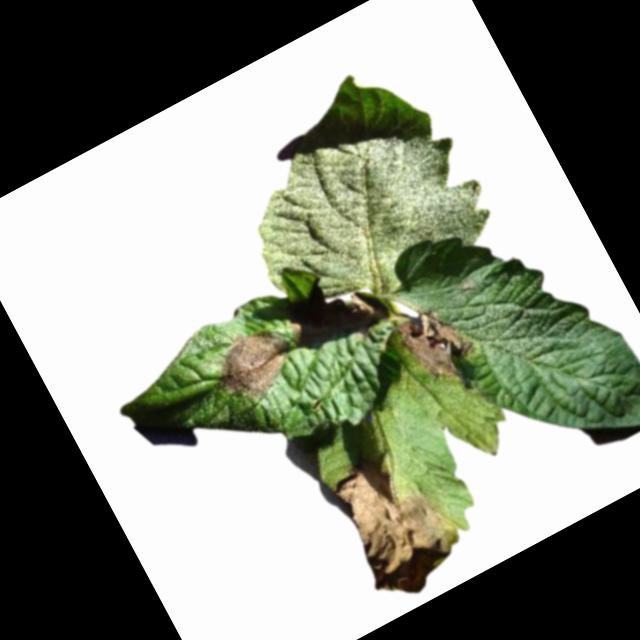Late_blight: (319, 436, 479, 611), (202, 317, 305, 413), (391, 294, 485, 393), (343, 288, 373, 323), (286, 320, 307, 344)
healthy: (199, 44, 505, 340)
